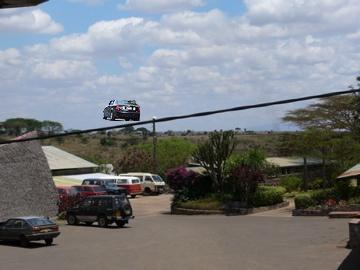tampered: (104, 101, 140, 121)
